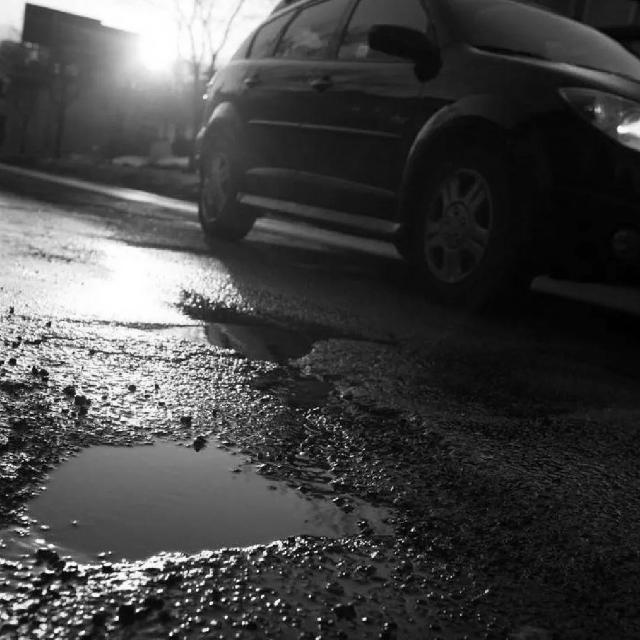Pothole: (3, 426, 410, 570), (50, 300, 360, 370), (443, 377, 622, 419)
